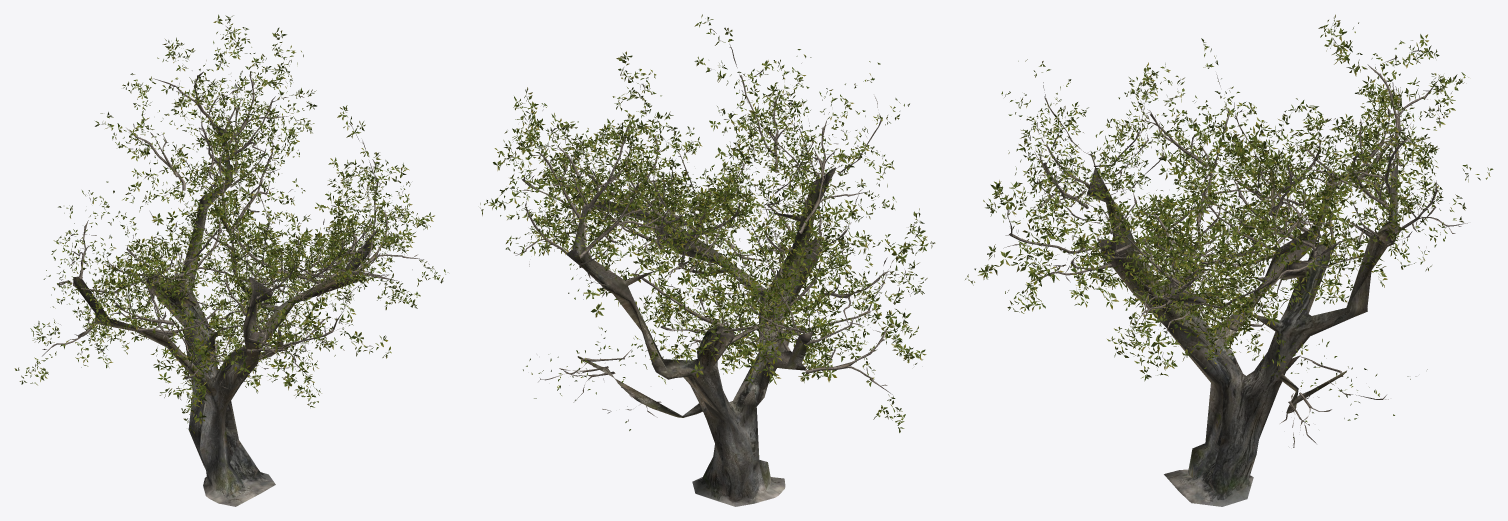
File: ph_island_tree1.glb
3 views of the same model, side by side, from view 1: azimuth 30°, elevation 25°; view 2: azimuth 150°, elevation 25°; view 3: azimuth 270°, elevation 25° (orthographic). The views are drawn at different scales.
Visible parts, largest first — view 1: island_tree_01_LOD0; view 2: island_tree_01_LOD0; view 3: island_tree_01_LOD0.
Part boxes in pixels (box(x1,y1,x2,y2)): island_tree_01_LOD0: box(14, 14, 448, 506); island_tree_01_LOD0: box(480, 14, 935, 506); island_tree_01_LOD0: box(965, 14, 1493, 506).
Size of the model in its own units: 4.74 by 5.02 by 4.81.
3 materials, 3 textured.
